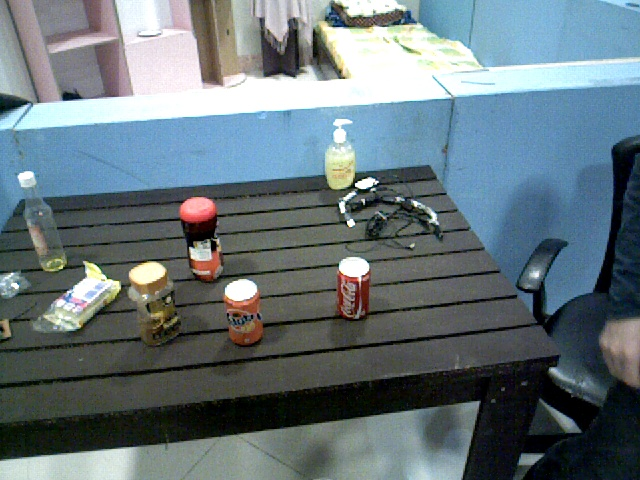coca: (336, 257, 370, 323)
coffee: (127, 259, 184, 349)
cream: (178, 196, 227, 284)
fanta: (225, 278, 263, 346)
